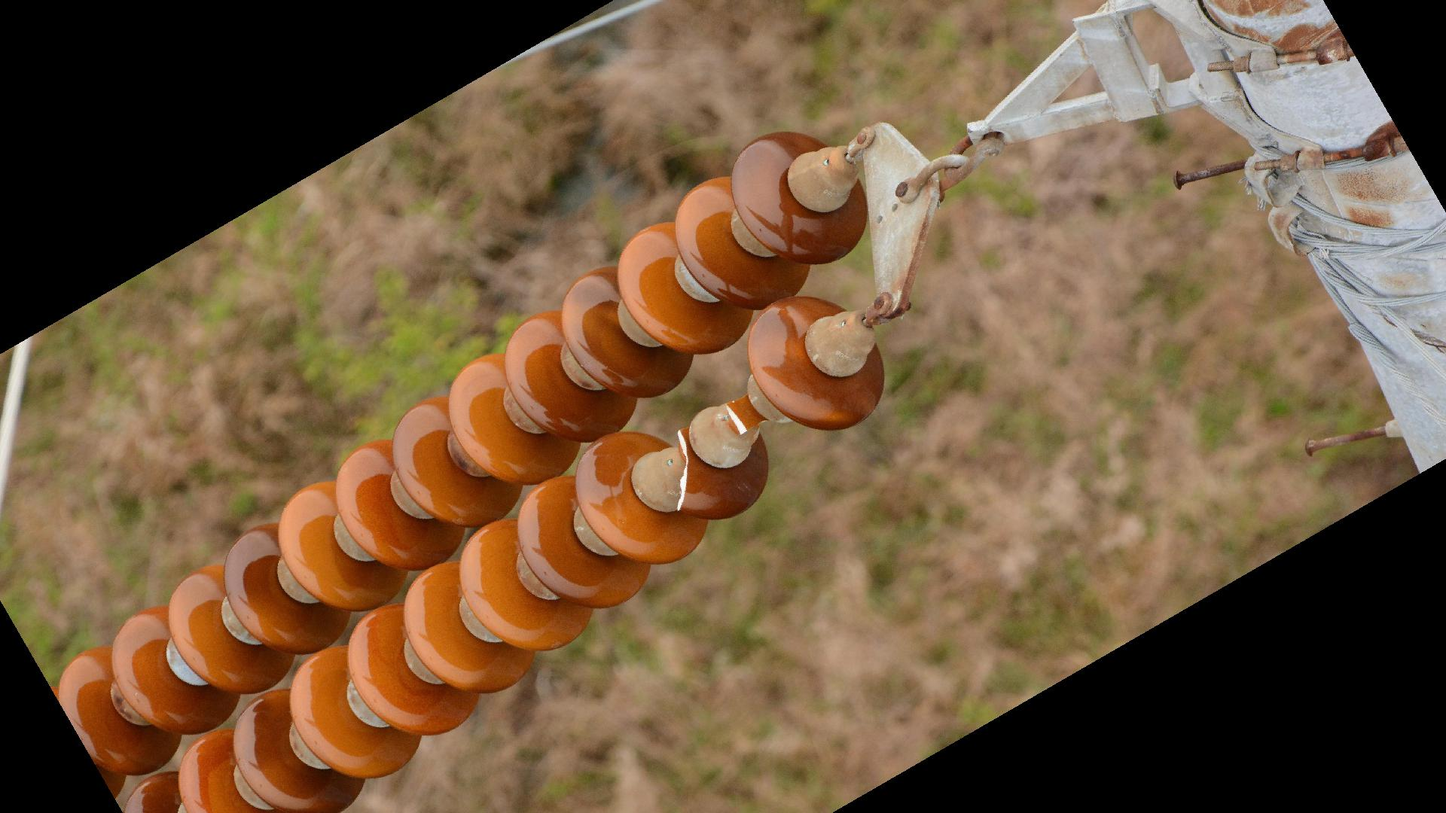insulator: (51, 128, 869, 796), (124, 288, 895, 813)
insulator_breakage: (670, 425, 692, 518)
